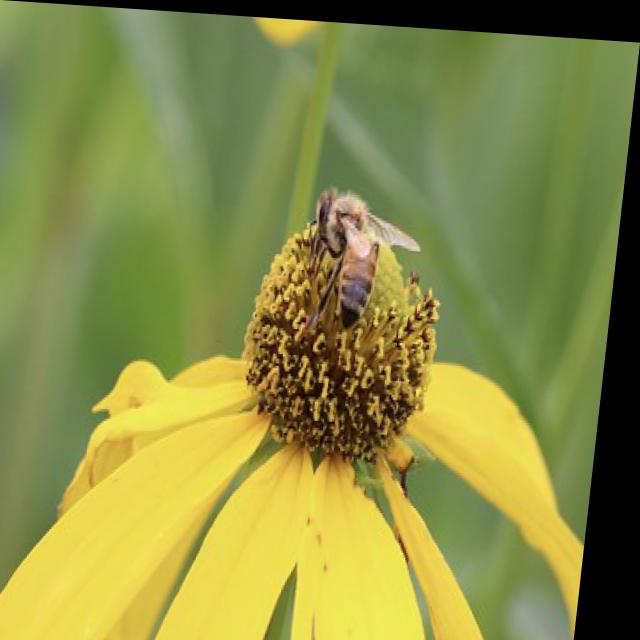Abeille: (295, 158, 434, 324)
